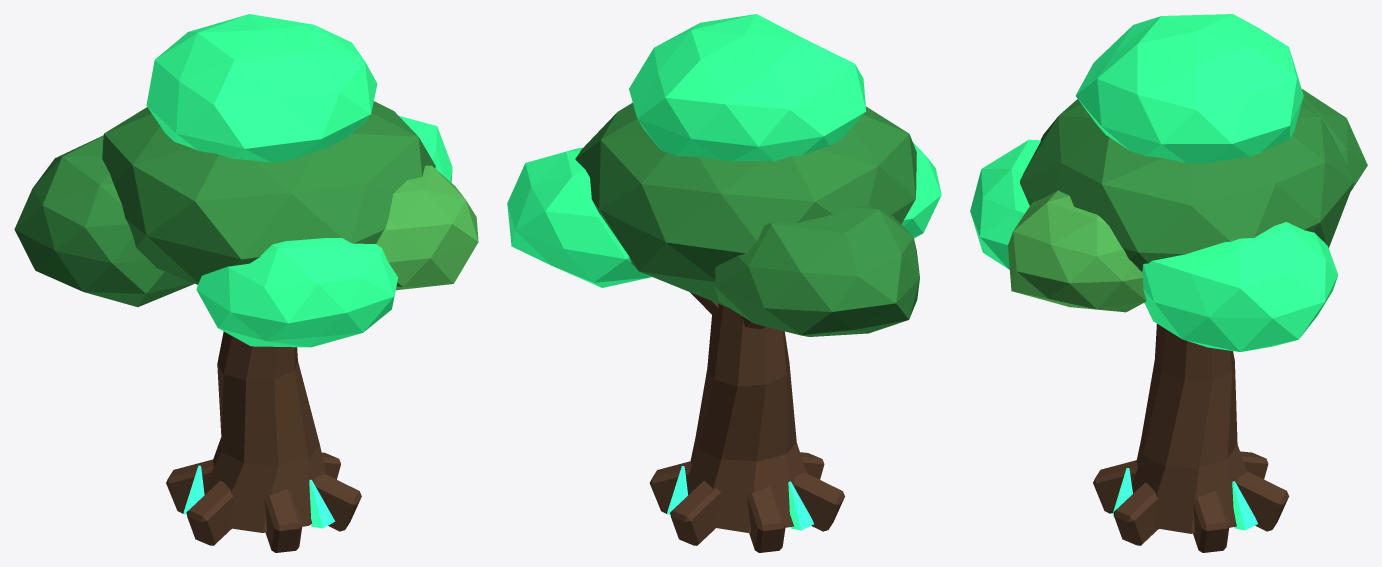
File: EM_ElderOak_Landmark.glb
3 views of the same model, side by side, from view 1: azimuth 30°, elevation 25°; view 2: azimuth 150°, elevation 25°; view 3: azimuth 270°, elevation 25° (orthographic).
Parts seen in each view (by area): view 1: EM_ElderOak_Landmark__LeafOak, EM_ElderOak_Landmark__LeafElder, EM_ElderOak_Landmark__BarkOak, EM_ElderOak_Landmark__LeafOakHi, EM_ElderOak_Landmark__JadeGlow; view 2: EM_ElderOak_Landmark__LeafOak, EM_ElderOak_Landmark__LeafElder, EM_ElderOak_Landmark__BarkOak, EM_ElderOak_Landmark__JadeGlow; view 3: EM_ElderOak_Landmark__LeafElder, EM_ElderOak_Landmark__LeafOak, EM_ElderOak_Landmark__BarkOak, EM_ElderOak_Landmark__LeafOakHi, EM_ElderOak_Landmark__JadeGlow.
Boxes of the visible parts, box(x1,y1,x2,y2) form: EM_ElderOak_Landmark__LeafOak: box(14, 101, 435, 307); EM_ElderOak_Landmark__LeafElder: box(146, 14, 452, 347); EM_ElderOak_Landmark__BarkOak: box(166, 331, 361, 552); EM_ElderOak_Landmark__LeafOakHi: box(376, 165, 478, 290); EM_ElderOak_Landmark__JadeGlow: box(183, 465, 335, 528); EM_ElderOak_Landmark__LeafOak: box(575, 102, 919, 336); EM_ElderOak_Landmark__LeafElder: box(507, 14, 941, 287); EM_ElderOak_Landmark__BarkOak: box(649, 292, 844, 552); EM_ElderOak_Landmark__JadeGlow: box(667, 466, 813, 530); EM_ElderOak_Landmark__LeafElder: box(970, 14, 1338, 351); EM_ElderOak_Landmark__LeafOak: box(1020, 89, 1367, 271); EM_ElderOak_Landmark__BarkOak: box(1093, 324, 1289, 552); EM_ElderOak_Landmark__LeafOakHi: box(1008, 190, 1146, 312); EM_ElderOak_Landmark__JadeGlow: box(1112, 468, 1257, 530).
Size of the model in its own units: 31.86 by 37.09 by 27.44.
